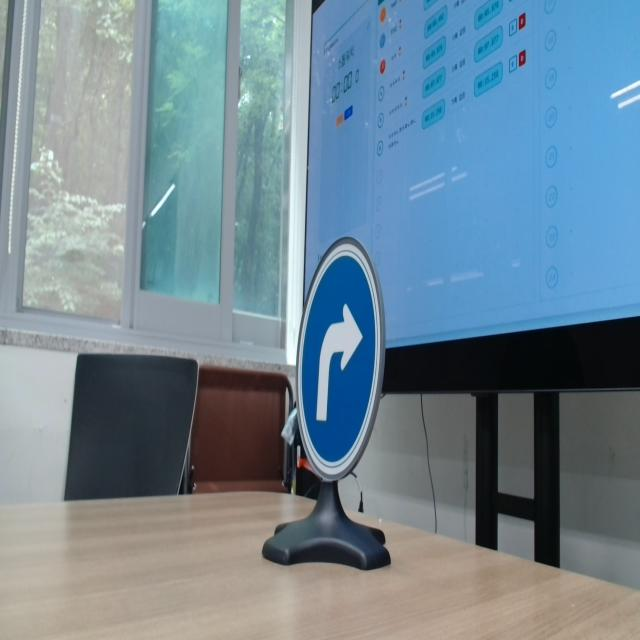right_dierection: (288, 223, 396, 487)
